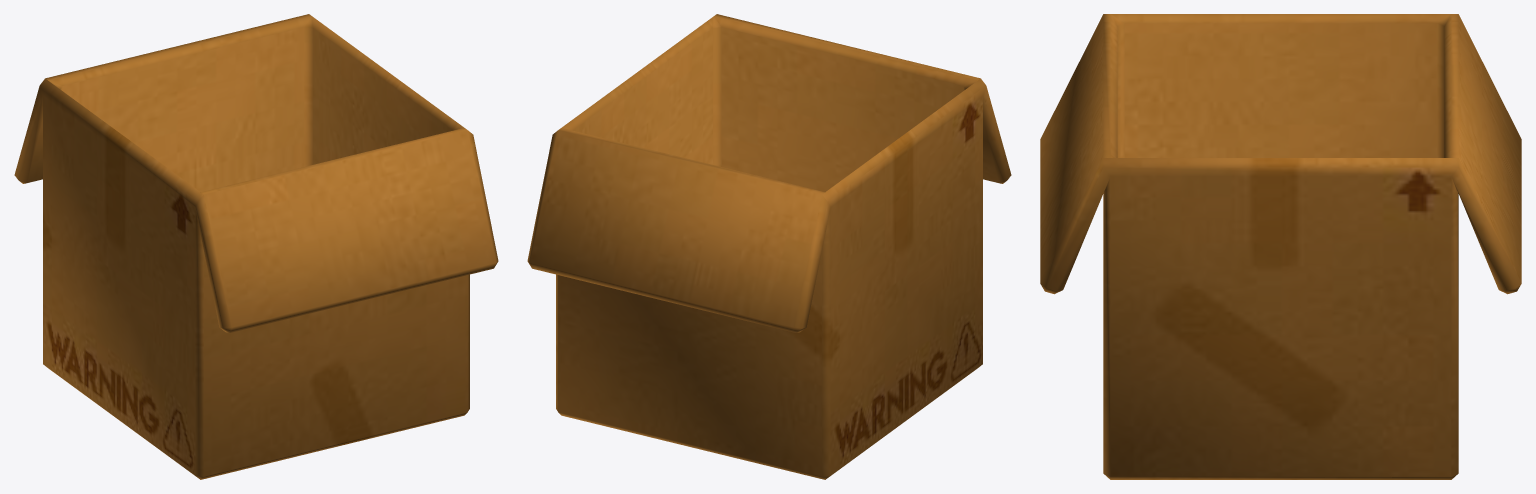
3 renders of one model, left to right at view 1: azimuth 30°, elevation 25°; view 2: azimuth 150°, elevation 25°; view 3: azimuth 270°, elevation 25°, orthographic. The views are drawn at different scales.
Visible parts, largest first — view 1: Box 3; view 2: Box 3; view 3: Box 3.
Boxes of the visible parts, box(x1,y1,x2,y2) form: Box 3: box(14, 14, 498, 479); Box 3: box(527, 14, 1011, 479); Box 3: box(1040, 14, 1521, 479).
Bounding box in the file's own units: 0.4943 × 0.4943 × 0.6701.
Materials: 1 (1 with a texture image).
